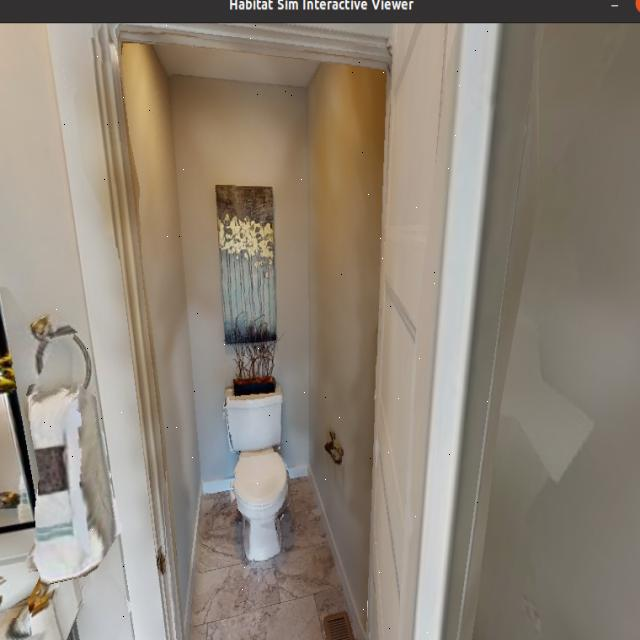door: (385, 25, 498, 640)
door-frame: (40, 25, 408, 640)
toilet: (214, 364, 297, 599)
